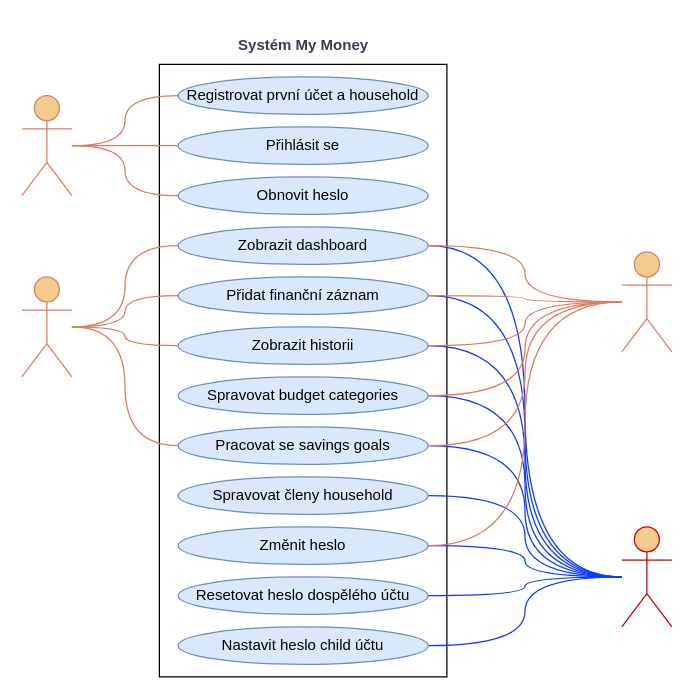
The diagram is 694 pixels wide and 699 high, and some of its shapes have lost their labels. Each missing label, with the centre of its shape:
Admin: the point at 646,576
Child: the point at 46,326
Guest: the point at 46,145
Partner: the point at 646,301
